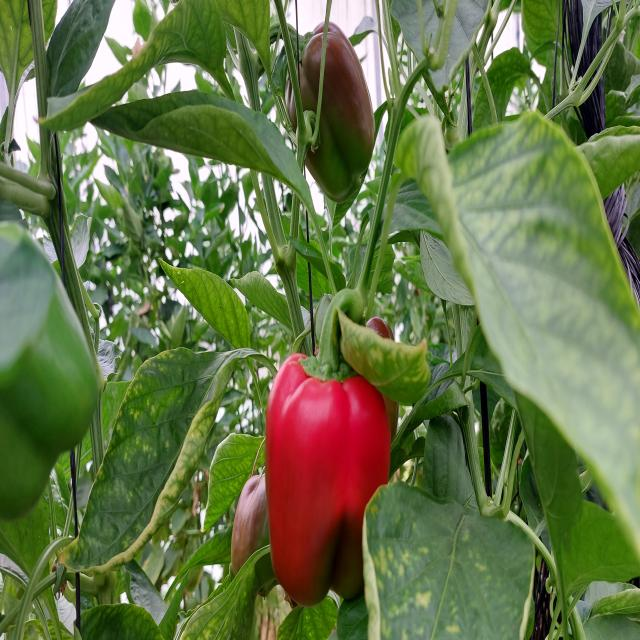Red-Ready-to-Harvest: (254, 356, 402, 617)
